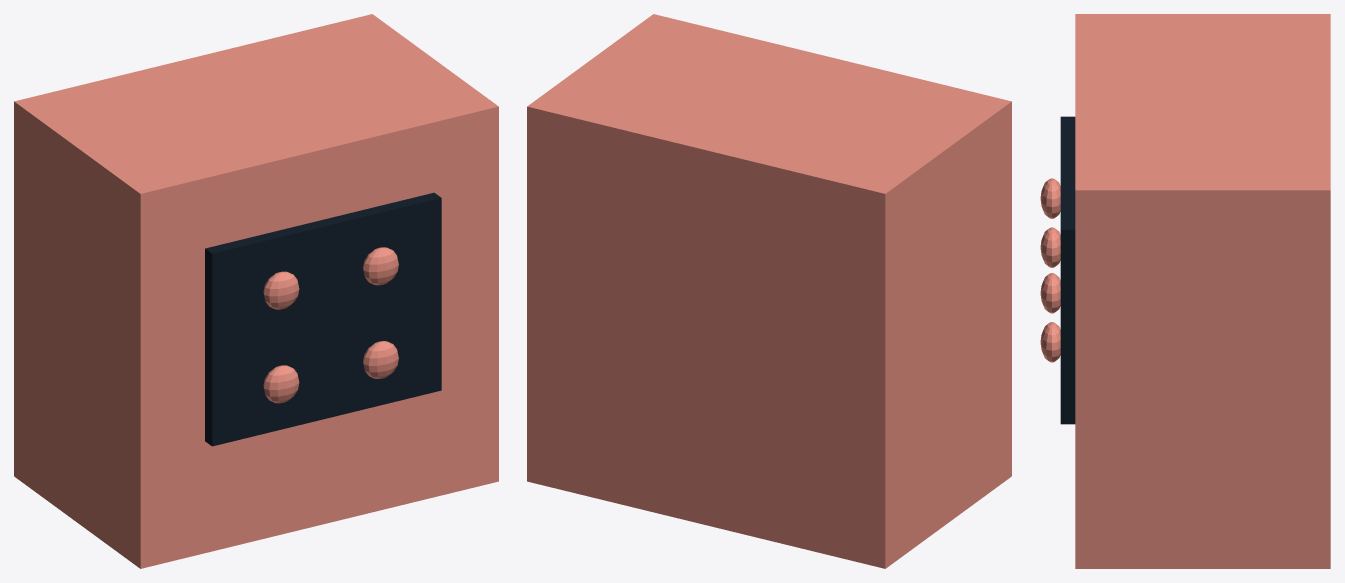
The model's file is item-game.glb.
The picture shows the model from 3 angles, left to right: view 1: azimuth 30°, elevation 25°; view 2: azimuth 150°, elevation 25°; view 3: azimuth 270°, elevation 25°; orthographic projection.
Parts seen in each view (by area): view 1: package, label, pip (×4); view 2: package; view 3: package, label, pip (×4).
Boxes of the visible parts, x1,y1,x2,y2 form: package: (14, 14, 498, 568); label: (205, 192, 441, 446); pip (×4): (263, 247, 398, 403); package: (527, 14, 1011, 568); package: (1075, 14, 1330, 568); label: (1060, 116, 1075, 424); pip (×4): (1040, 178, 1060, 362).
Bounding box in the file's own units: 0.72 × 0.72 × 0.5.
